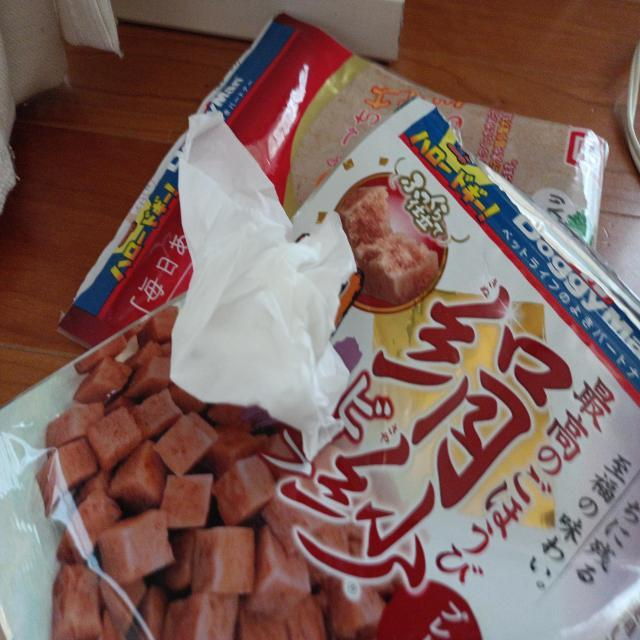Paper: (173, 108, 330, 420)
